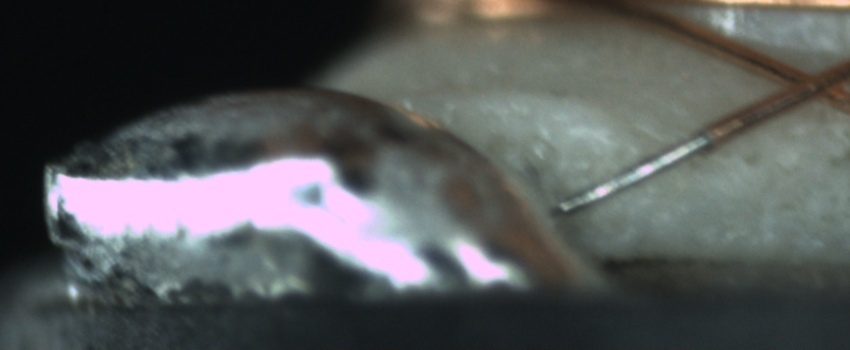CL: (766, 54, 846, 110)
TS: (556, 130, 715, 216)
